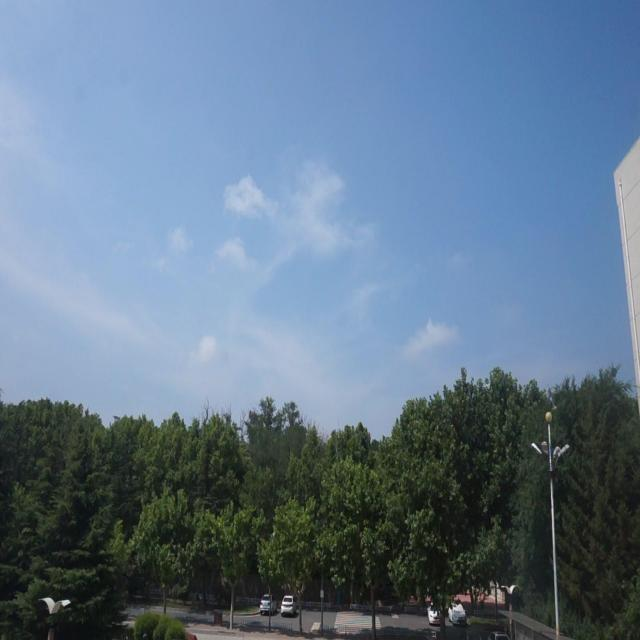UAV: (484, 384, 489, 387)
